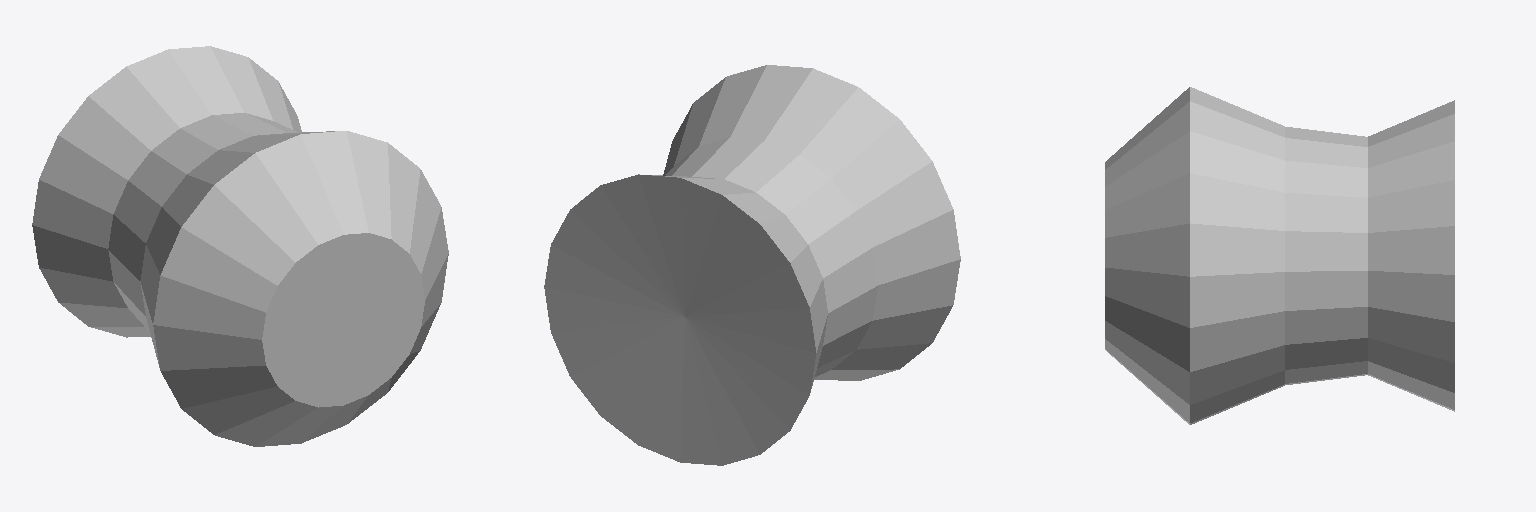
Rendered from Bumper_Top.obj.
3 renders of one model, left to right at view 1: azimuth 30°, elevation 25°; view 2: azimuth 150°, elevation 25°; view 3: azimuth 270°, elevation 25°, orthographic.
Visible parts, largest first — view 1: Bumper_BotLeft1; view 2: Bumper_BotLeft1; view 3: Bumper_BotLeft1.
Part boxes in pixels (x1,y1,x2,y2): Bumper_BotLeft1: (32, 46, 448, 446); Bumper_BotLeft1: (544, 65, 960, 465); Bumper_BotLeft1: (1105, 87, 1454, 424).
Bounding box in the file's own units: 0.166 × 0.166 × 0.1705.